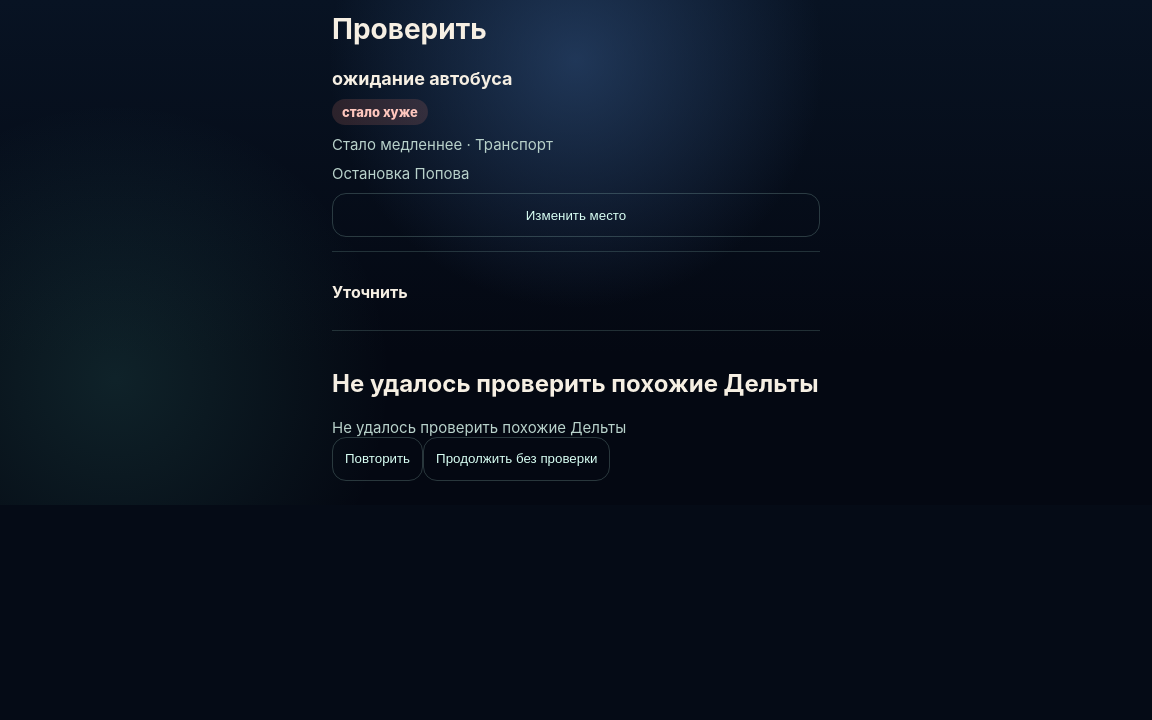
Test: MobileDeltaReviewScreen › retry explicitly runs another search and found rows use Russian enum labels
Expected: the heading "Не удалось проверить похожие Дельты" is shown, [332, 369, 820, 398]
Click the button "Повторить". click: click(378, 459)
box: [332, 437, 423, 481]
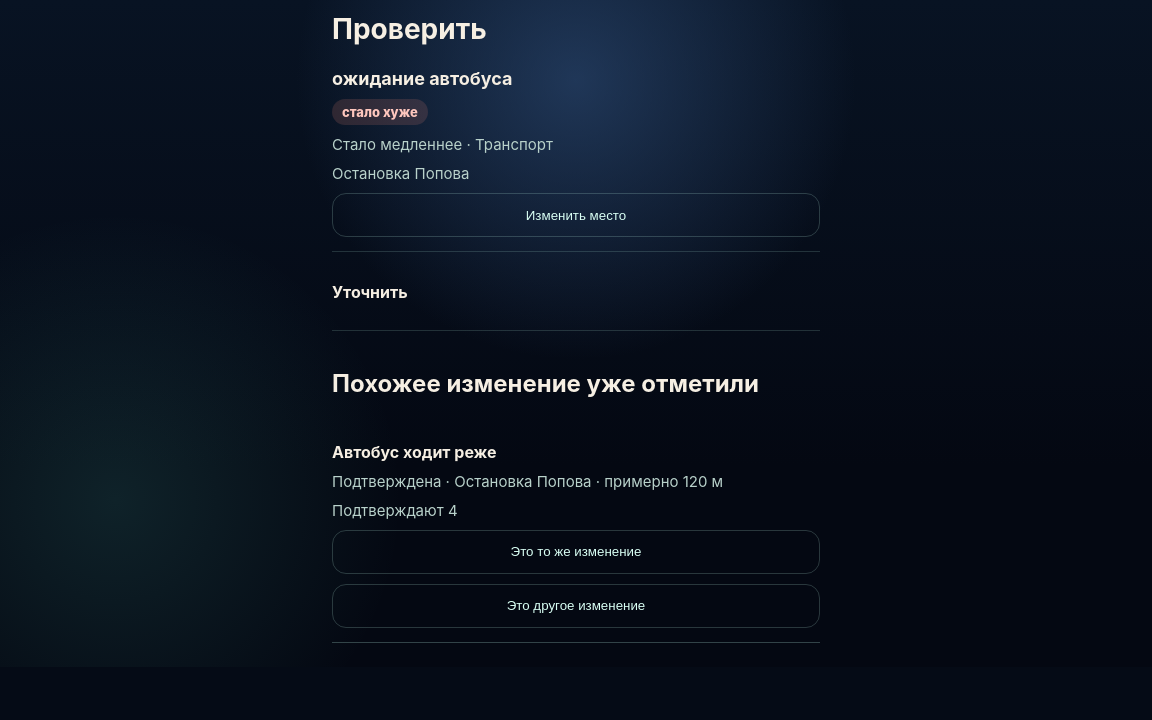
Now the text "Подтверждена · Остановка Попова · примерно 120 м" is shown, box [332, 472, 723, 491]
